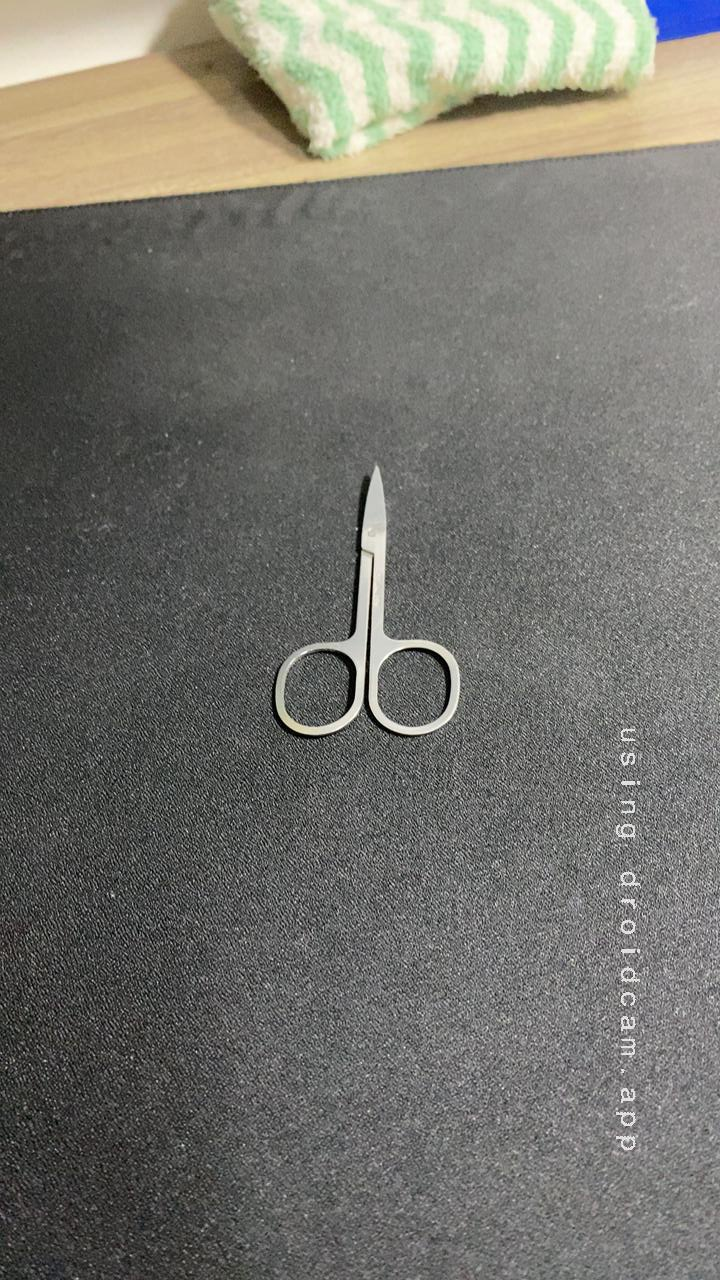scissor: (247, 451, 484, 748)
